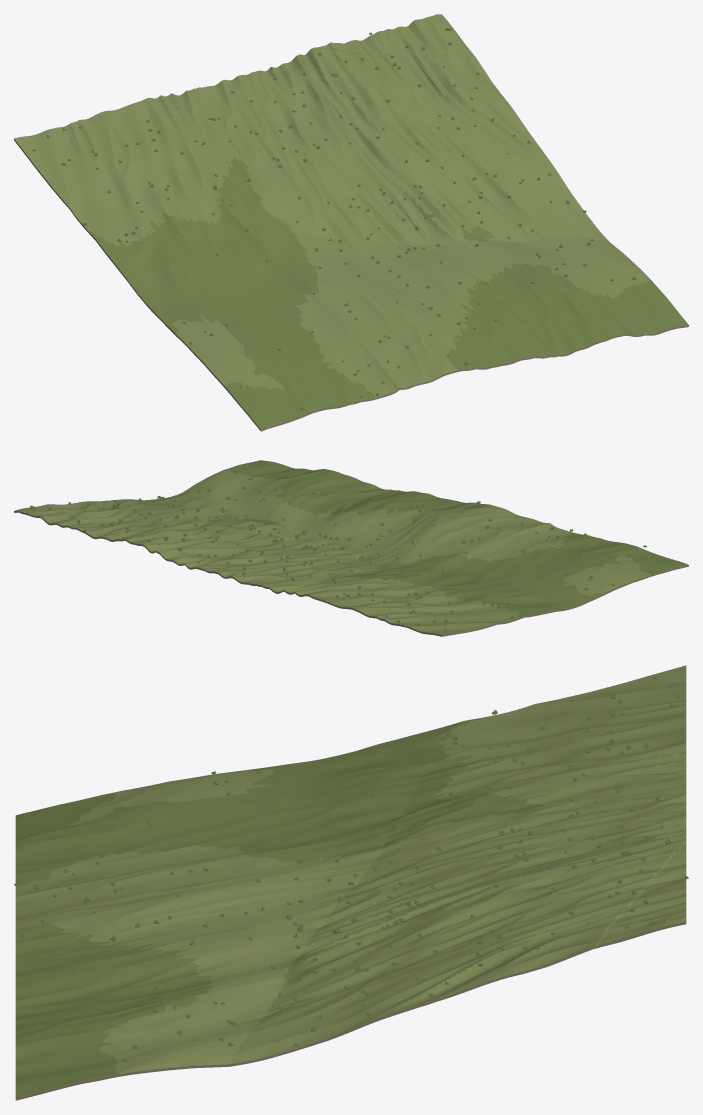
Rendered from parca_+5_-8-yakin.glb.
3 views of the same model, one above another, from view 1: azimuth 30°, elevation 25°; view 2: azimuth 150°, elevation 25°; view 3: azimuth 270°, elevation 25° (orthographic). The views are drawn at different scales.
Parts seen in each view (by area): view 1: parca_+5_-8_arazi, parca_+5_-8_bitkiler; view 2: parca_+5_-8_arazi, parca_+5_-8_bitkiler; view 3: parca_+5_-8_arazi, parca_+5_-8_bitkiler.
Boxes of the visible parts, left/top/right/bottom form: parca_+5_-8_arazi: left=14, top=14, right=688, bottom=431; parca_+5_-8_bitkiler: left=32, top=27, right=636, bottom=410; parca_+5_-8_arazi: left=14, top=460, right=688, bottom=636; parca_+5_-8_bitkiler: left=30, top=470, right=649, bottom=631; parca_+5_-8_arazi: left=15, top=665, right=686, bottom=1100; parca_+5_-8_bitkiler: left=14, top=676, right=688, bottom=1062.
Size of the model in its own units: 1004 by 298 by 1007.
